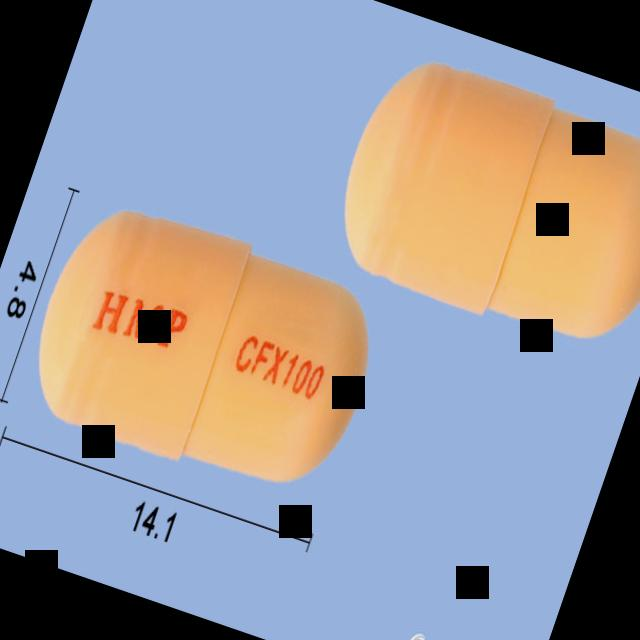Cefix Cap: (8, 183, 400, 518)
